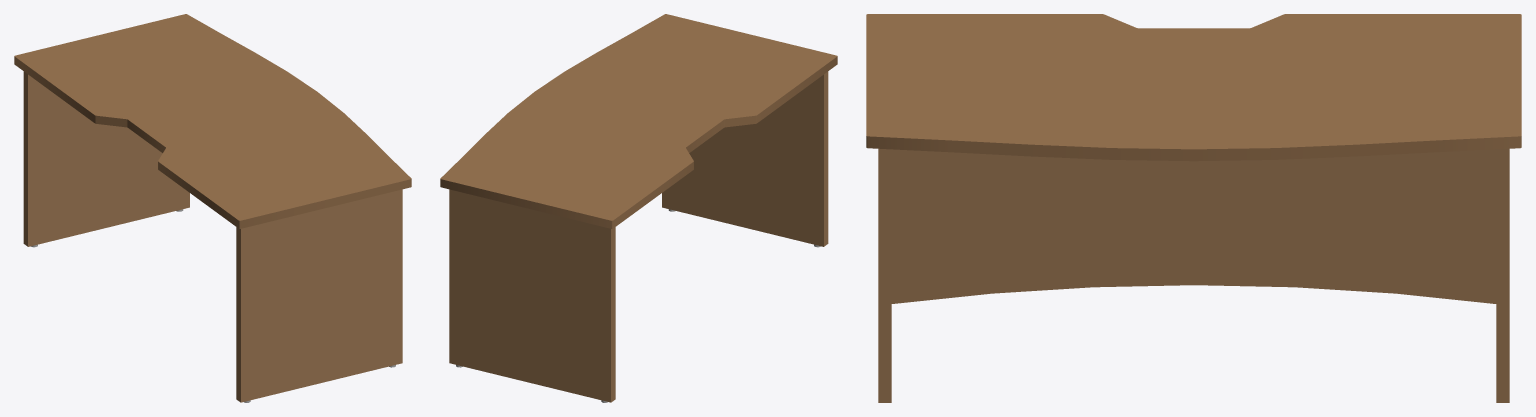
Rendered from table_1.FBX.
3 views of the same model, side by side, from view 1: azimuth 30°, elevation 25°; view 2: azimuth 150°, elevation 25°; view 3: azimuth 270°, elevation 25° (orthographic). The views are drawn at different scales.
Parts seen in each view (by area): view 1: table_1; view 2: table_1; view 3: table_1.
Boxes of the visible parts, x1,y1,x2,y2 form: table_1: (14,14,411,402); table_1: (440,14,837,402); table_1: (866,14,1521,402).
Bounding box in the file's own units: 0.7949 × 0.7494 × 1.63.
